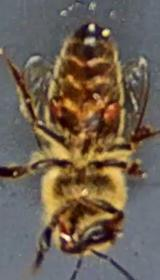varroa_mite: (98, 92, 132, 138), (38, 92, 74, 129)
